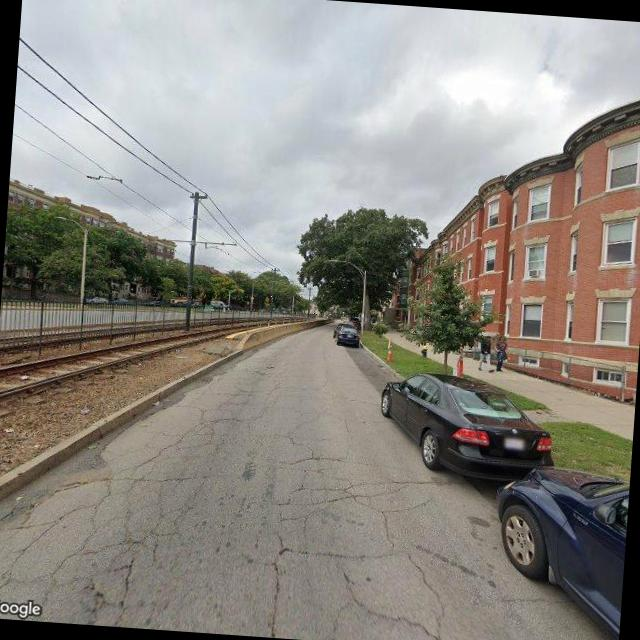crack: (0, 369, 477, 640)
